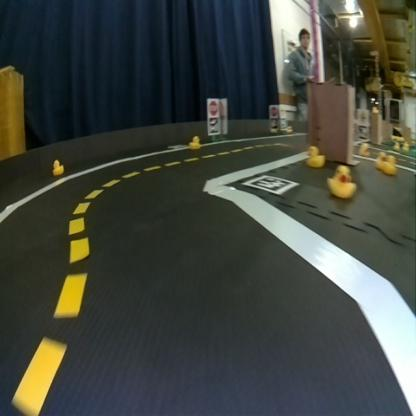Duckie: (326, 166, 354, 196), (306, 146, 322, 166), (383, 154, 397, 174), (374, 151, 385, 168), (52, 160, 62, 174), (190, 135, 200, 149)
QR code: (246, 174, 298, 192), (207, 116, 218, 133), (269, 120, 278, 128), (281, 119, 285, 127)
Stop sign: (208, 99, 218, 115)
